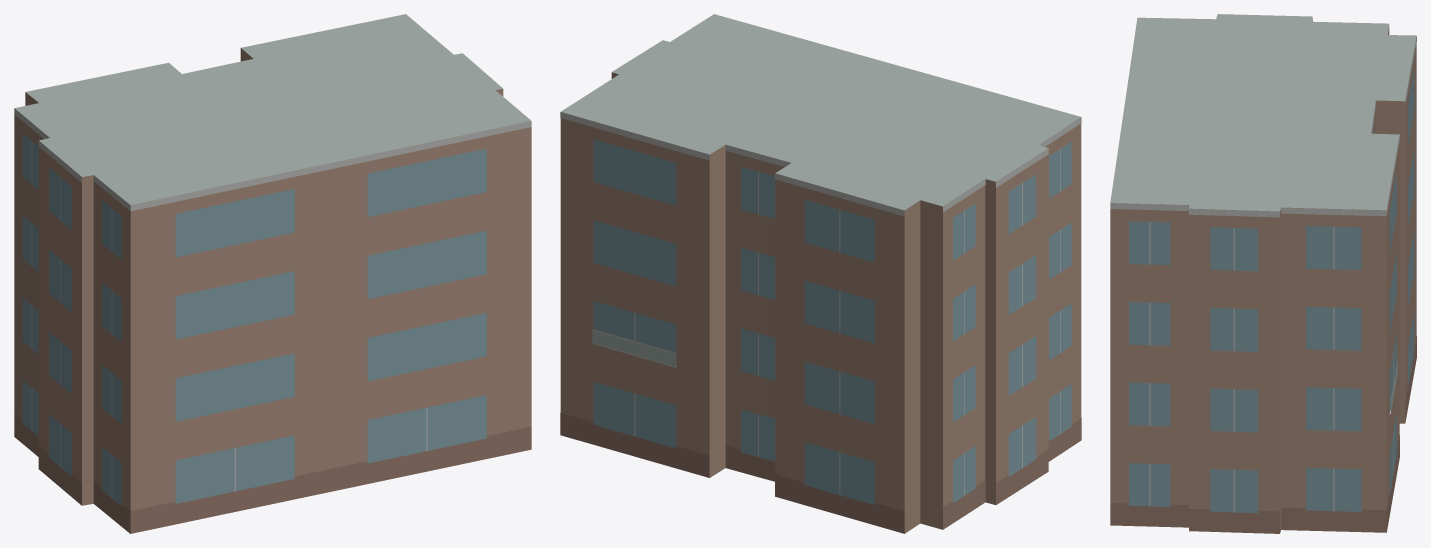
File: survey-upis-32672149.glb
3 renders of one model, left to right at view 1: azimuth 30°, elevation 25°; view 2: azimuth 150°, elevation 25°; view 3: azimuth 270°, elevation 25°, orthographic.
Visible parts, largest first — view 1: survey-upis-32672149.tmp; view 2: survey-upis-32672149.tmp; view 3: survey-upis-32672149.tmp.
Part boxes in pixels (x1=…): survey-upis-32672149.tmp: x1=14, y1=14, x2=531, y2=533; survey-upis-32672149.tmp: x1=560, y1=14, x2=1081, y2=533; survey-upis-32672149.tmp: x1=1110, y1=14, x2=1416, y2=533.
Size of the model in its own units: 17.15 by 13.05 by 11.25.
